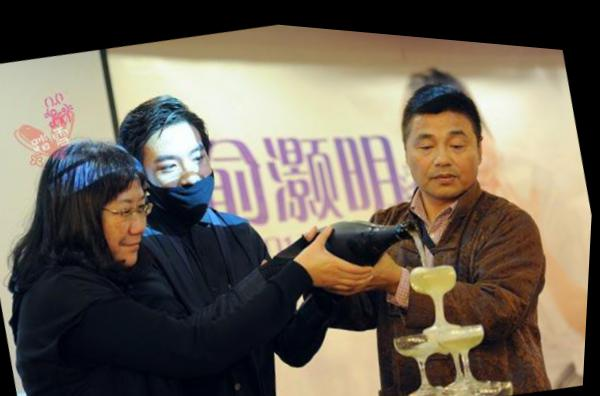NONE: (403, 110, 484, 197), (99, 181, 166, 274)
WRONG: (134, 127, 241, 238)
